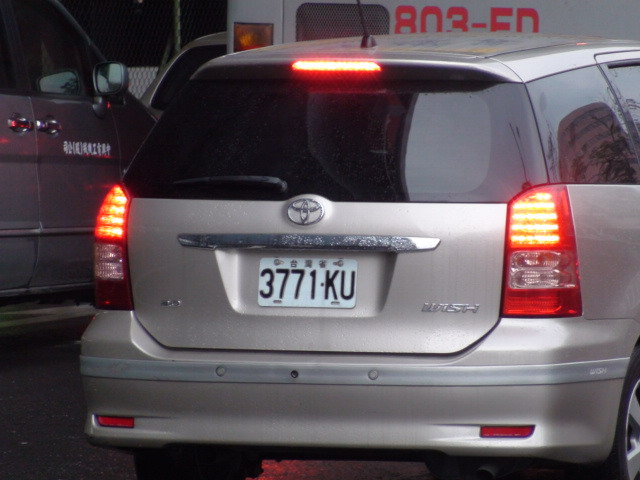plate: (256, 254, 360, 313)
